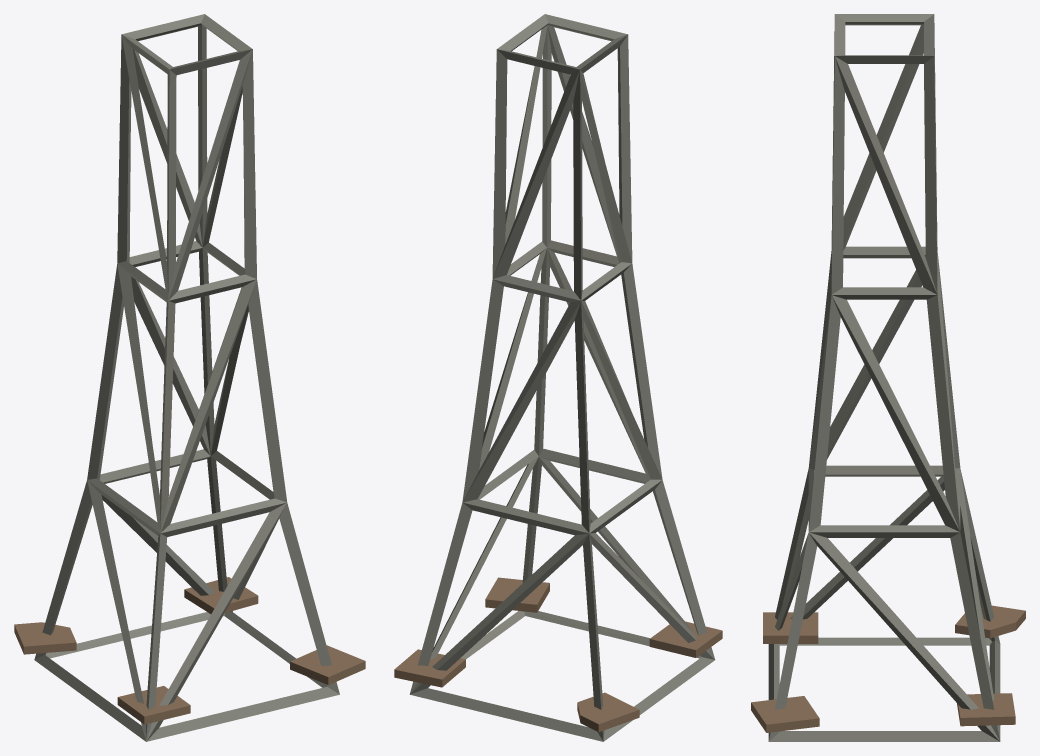
Rendered from LP_PostApoc_MetalTower.fbx.
The picture shows the model from 3 angles, left to right: view 1: azimuth 30°, elevation 25°; view 2: azimuth 150°, elevation 25°; view 3: azimuth 270°, elevation 25°; orthographic projection. The views are drawn at different scales.
Visible parts, largest first — view 1: MetalTower; view 2: MetalTower; view 3: MetalTower.
Part boxes in pixels (box(x1,y1,x2,y2)): MetalTower: box(14, 14, 365, 741); MetalTower: box(394, 14, 722, 741); MetalTower: box(751, 14, 1025, 741).
Bounding box in the file's own units: 280 × 704 × 267.
